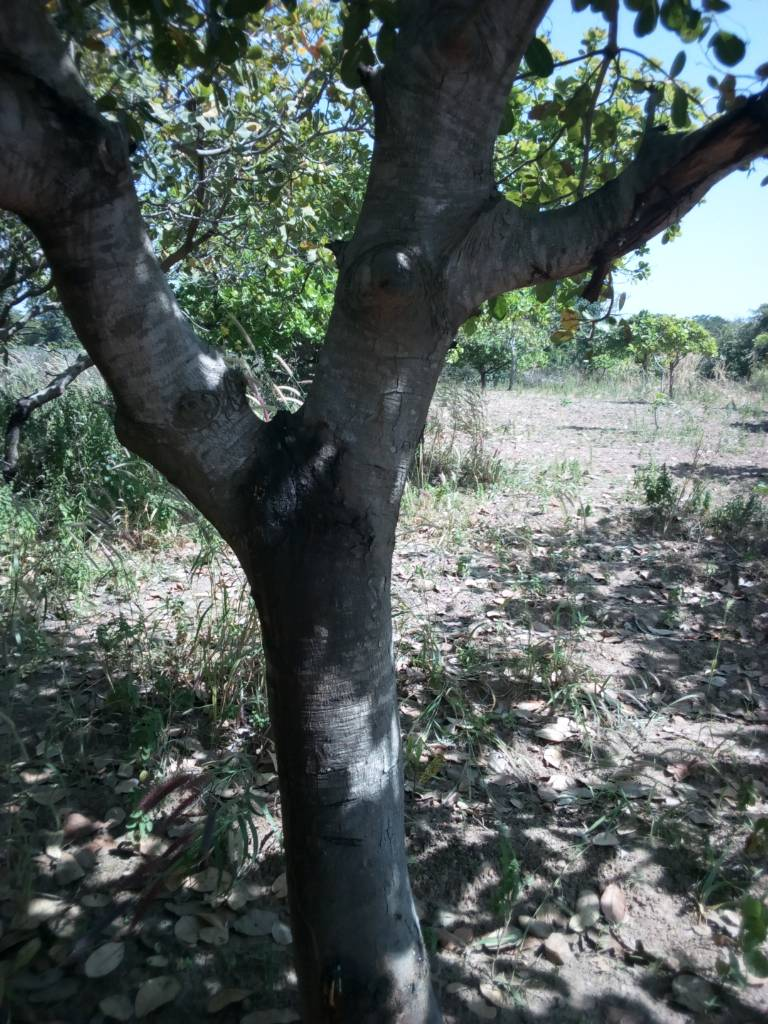Gommose: (247, 419, 369, 555)
